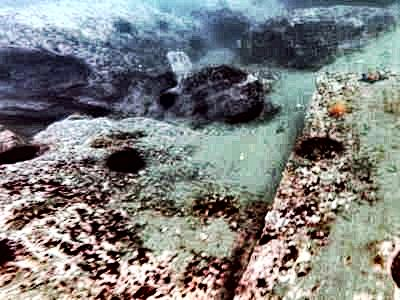urchin: (106, 147, 145, 174), (1, 233, 13, 270)
